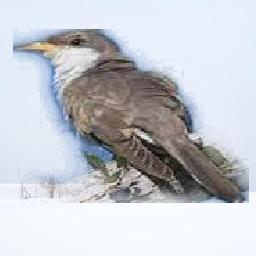Cuckoo: (13, 29, 249, 203)
